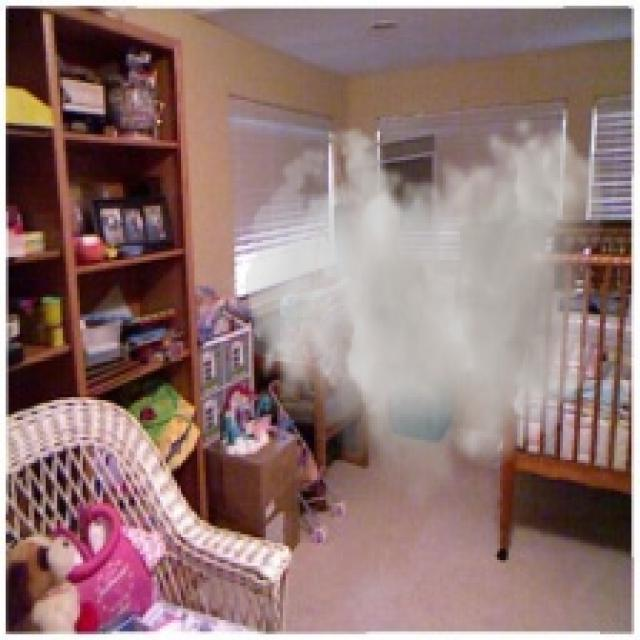Smoke: (245, 111, 606, 518)
